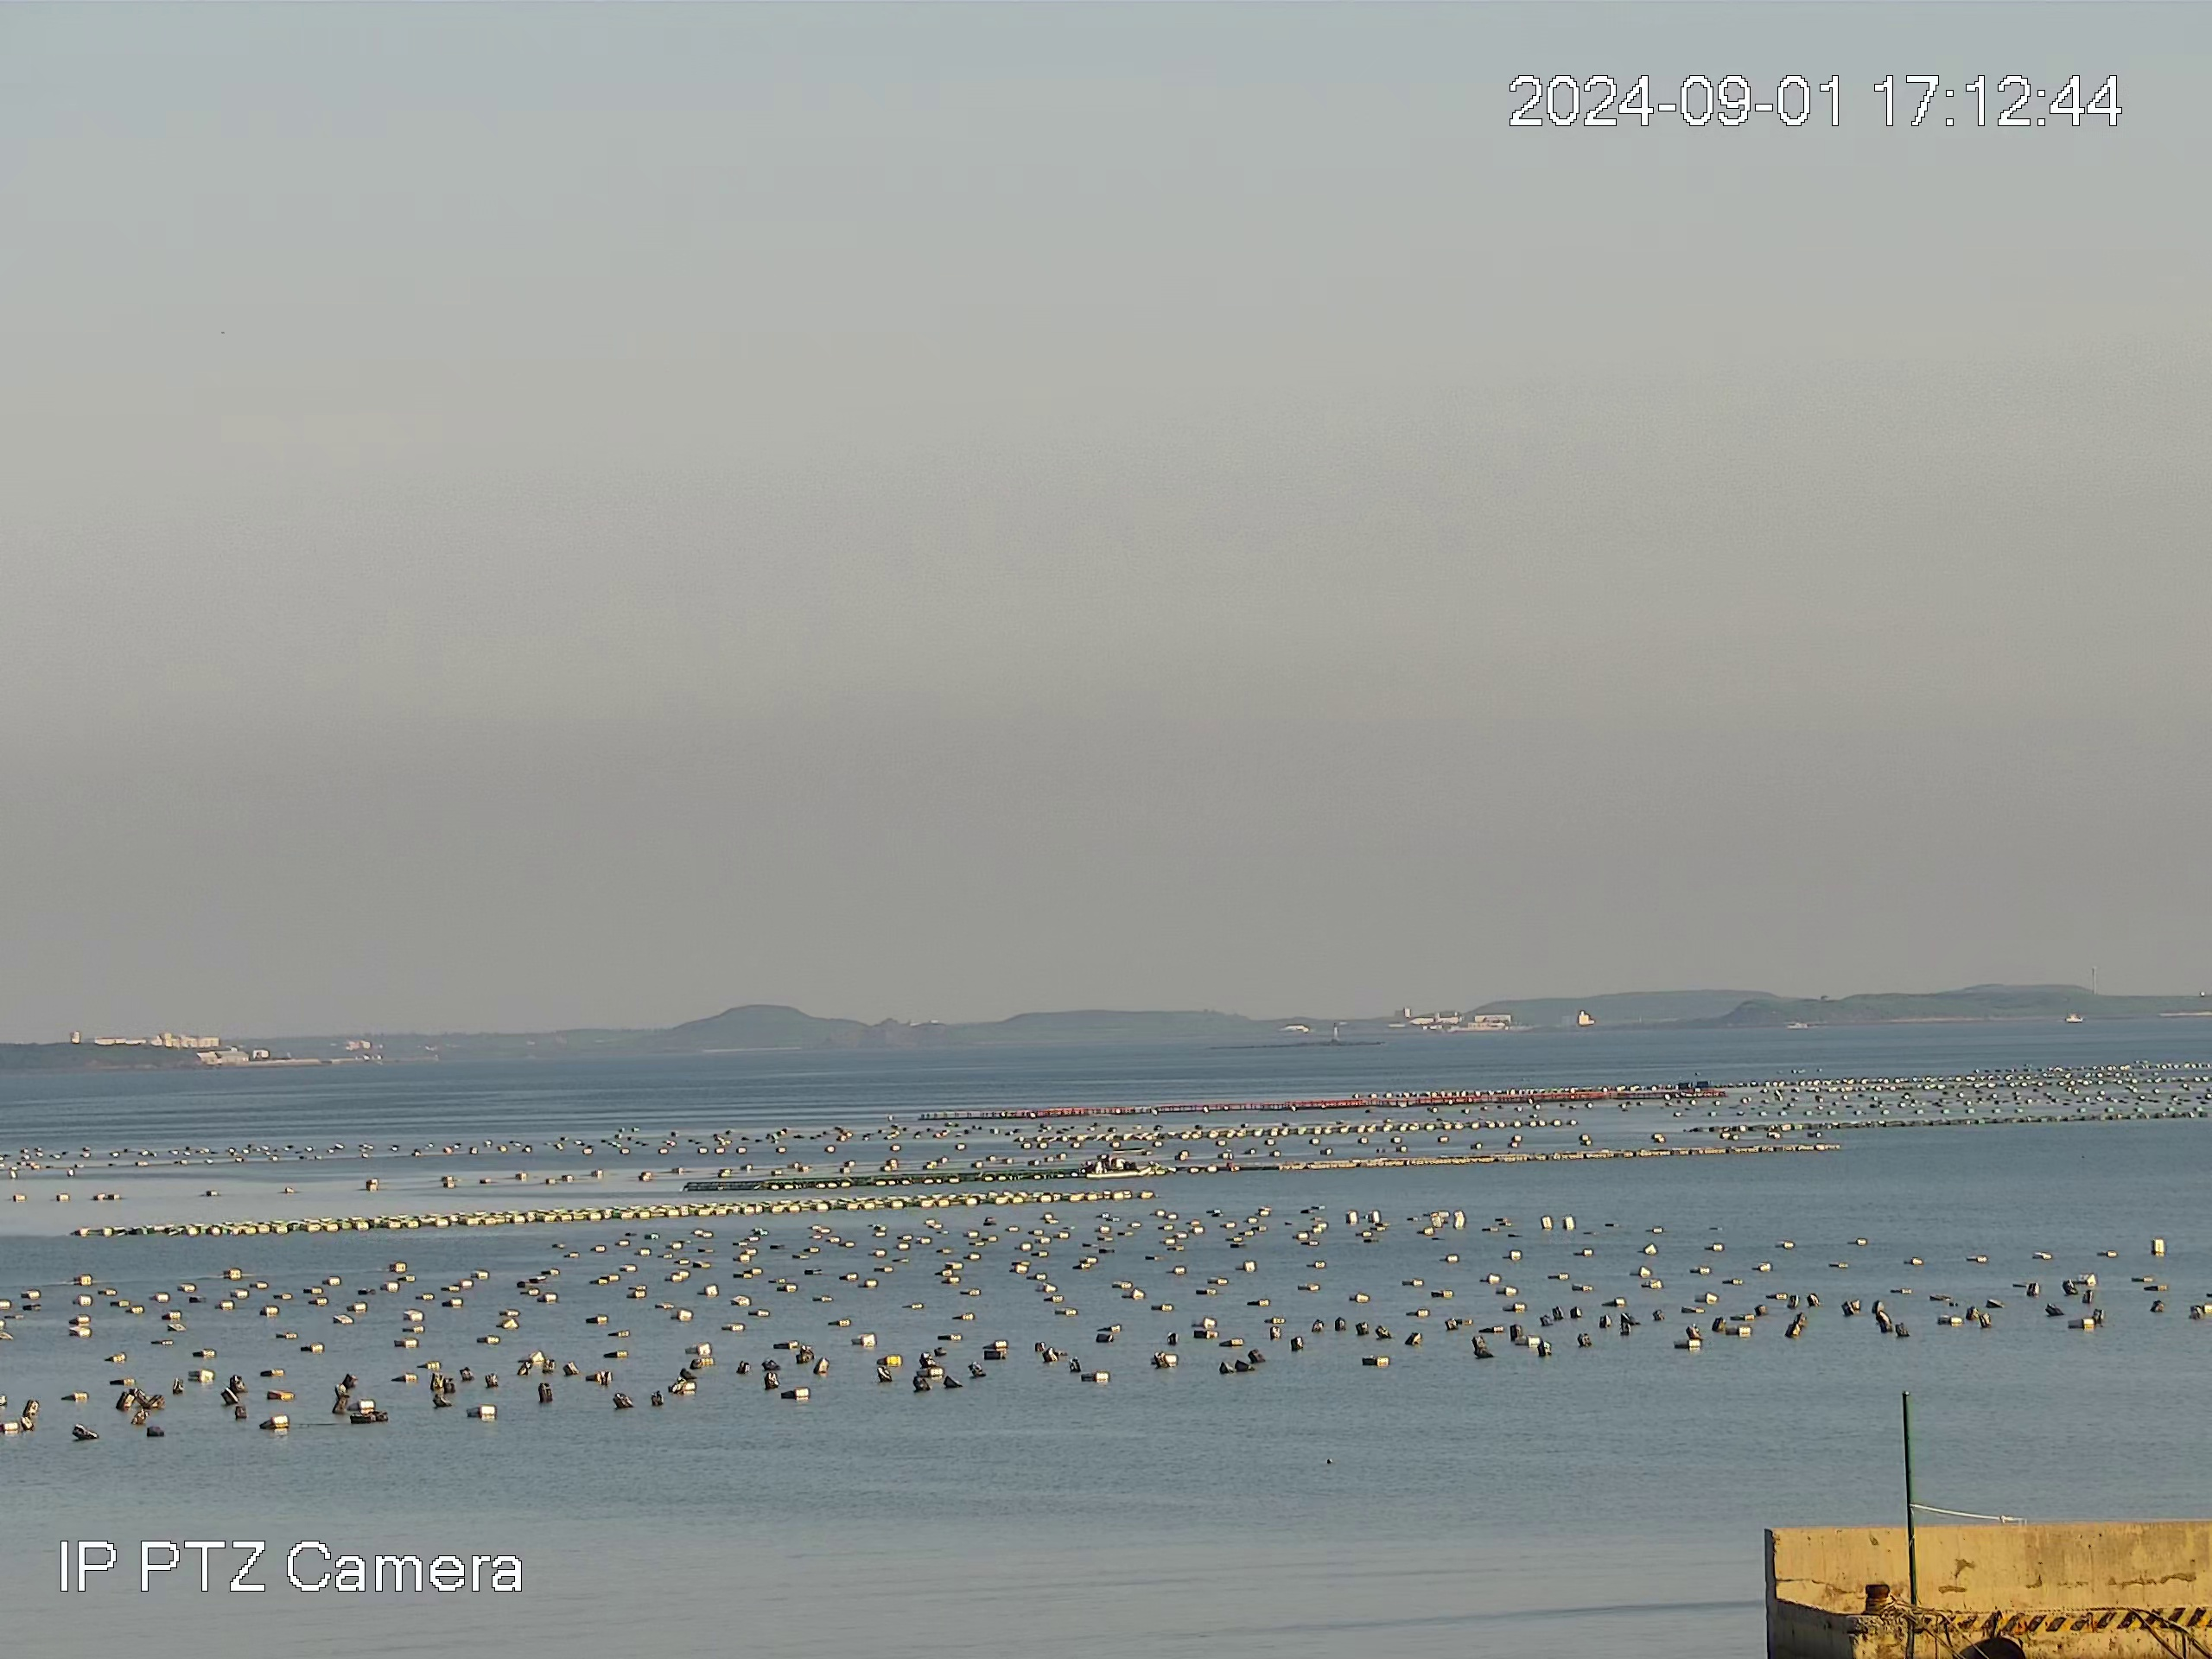boat: (1088, 1149, 1156, 1178)
